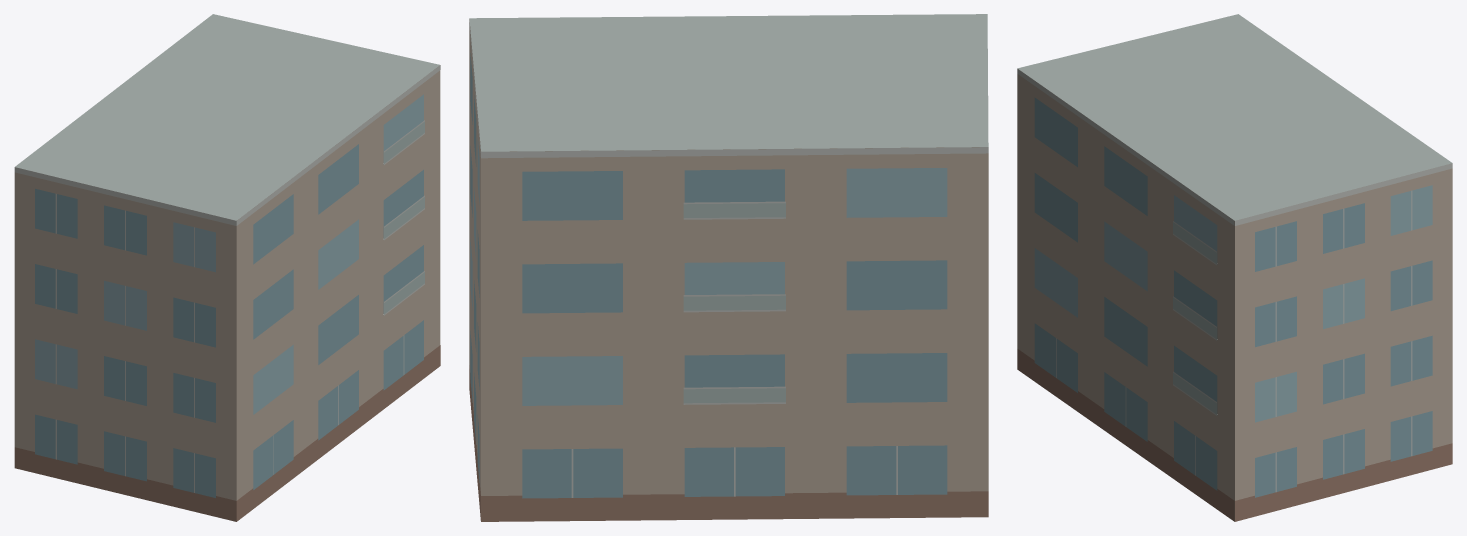
The model's file is survey-upis-32968473.glb.
3 renders of one model, left to right at view 1: azimuth 30°, elevation 25°; view 2: azimuth 150°, elevation 25°; view 3: azimuth 270°, elevation 25°, orthographic. The views are drawn at different scales.
Parts seen in each view (by area): view 1: survey-upis-32968473.tmp; view 2: survey-upis-32968473.tmp; view 3: survey-upis-32968473.tmp.
Boxes of the visible parts, x1,y1,x2,y2 form: survey-upis-32968473.tmp: (14, 14, 440, 521); survey-upis-32968473.tmp: (469, 14, 988, 521); survey-upis-32968473.tmp: (1017, 14, 1452, 521).
Size of the model in its own units: 20.49 by 13.9 by 18.23.
